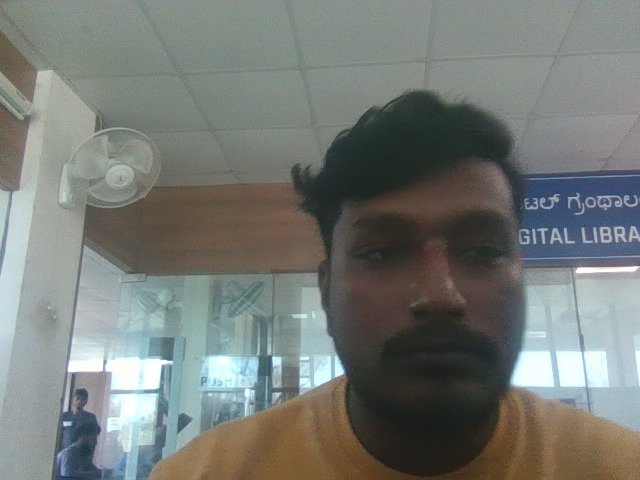real: (300, 79, 553, 437)
